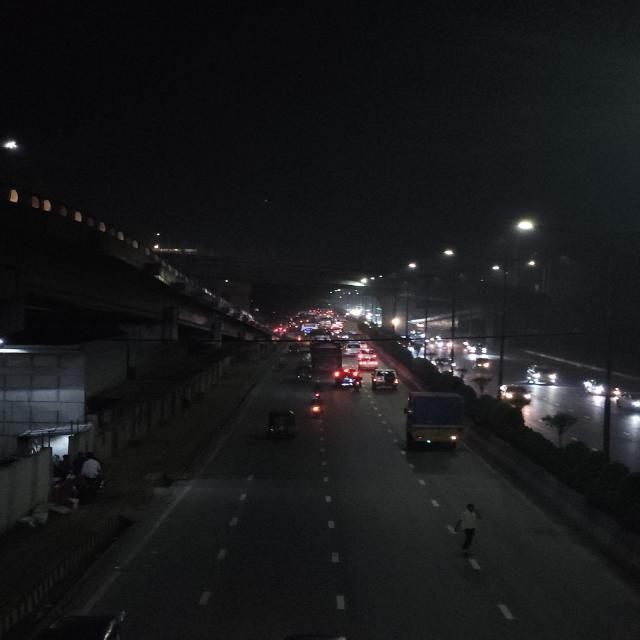bus: (311, 344, 345, 372), (310, 330, 334, 342)
car: (579, 378, 623, 399), (497, 382, 536, 404), (525, 364, 562, 386), (371, 367, 400, 390), (336, 371, 361, 389), (357, 350, 380, 368), (472, 356, 494, 372), (342, 342, 361, 356), (437, 358, 454, 372)
cng: (15, 607, 136, 640), (262, 408, 299, 440), (293, 362, 313, 383), (472, 356, 492, 372), (300, 351, 314, 364)
motorcycle: (307, 382, 326, 418), (309, 382, 324, 402)
pedestrian: (444, 500, 493, 556)
truck: (401, 390, 469, 454)
